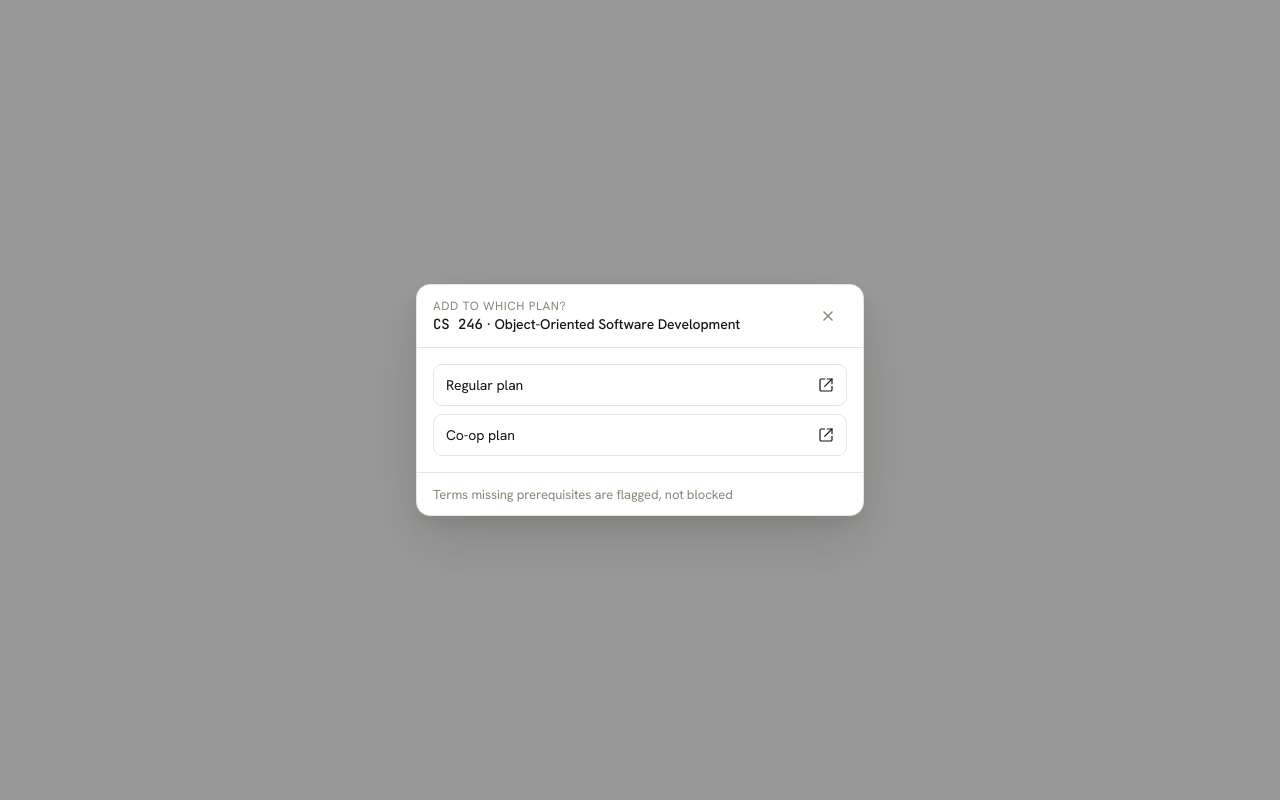
Test: TermPicker — signed in › lists plans, then loads the chosen one for term selection
The image size is (1280, 800).
Expected: the text "Add to which plan?" is shown, 433,298 -> 566,314
// The list renders once the membership lookup resolves.
Click the button "Co-op plan" at (480, 435), box 433,414 -> 847,456
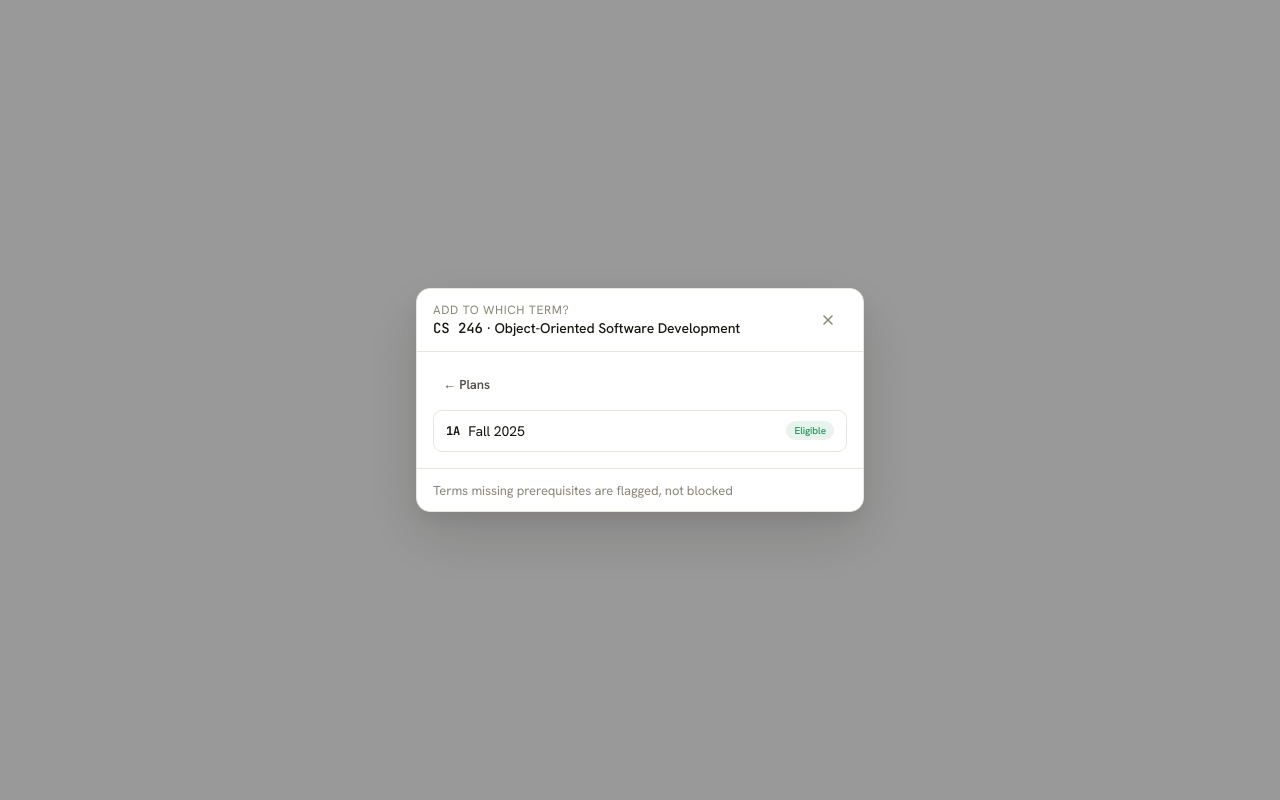
Now the button "1A Fall 2025 Eligible" is shown, box 433,410 -> 847,452
